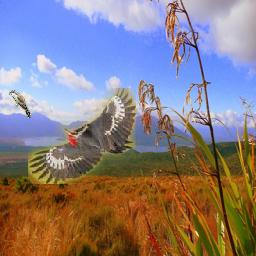Cuckoo: (9, 90, 31, 118)
Woodpecker: (28, 88, 136, 184)
